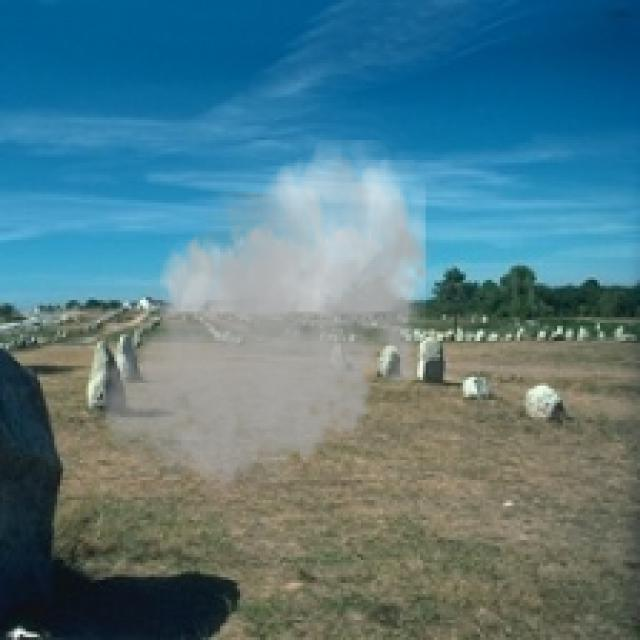Smoke: (94, 140, 440, 506)
